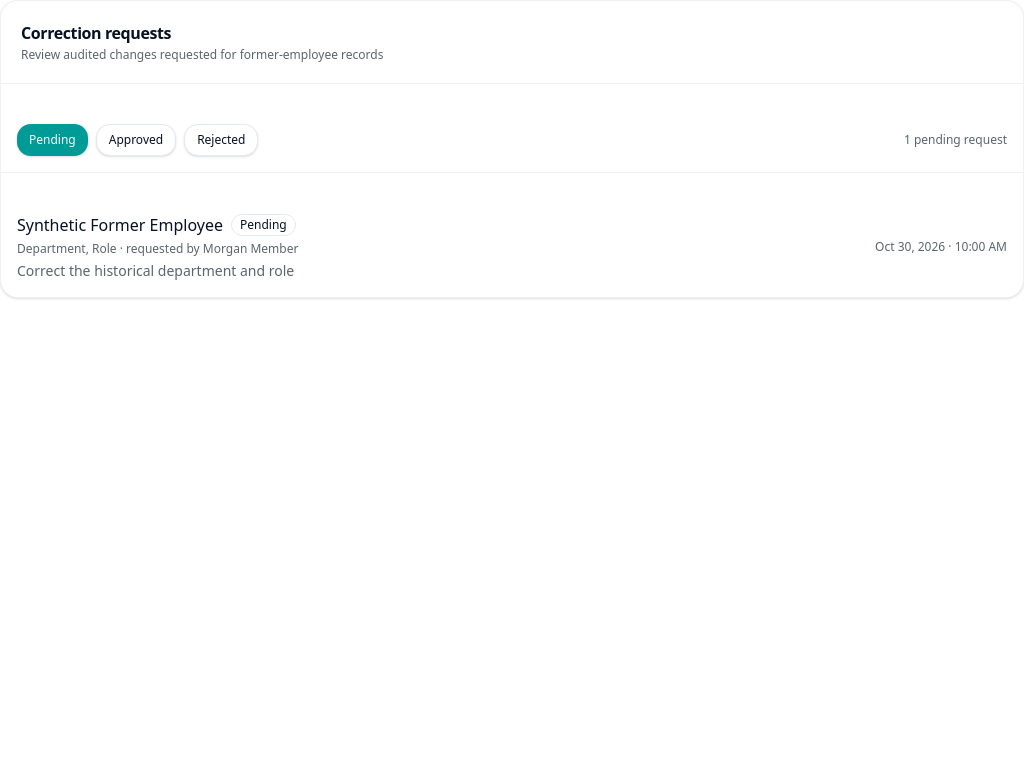
Scenario: FormerEmployeeCorrectionsCard › renders the pending queue and safe correction detail without raw IDs
Expected: the text "Department, Role · requested by Morgan Member" is shown, [17,240,298,257]
Click the text "Synthetic Former Employee".
click(120, 225)  # box [17,213,223,237]
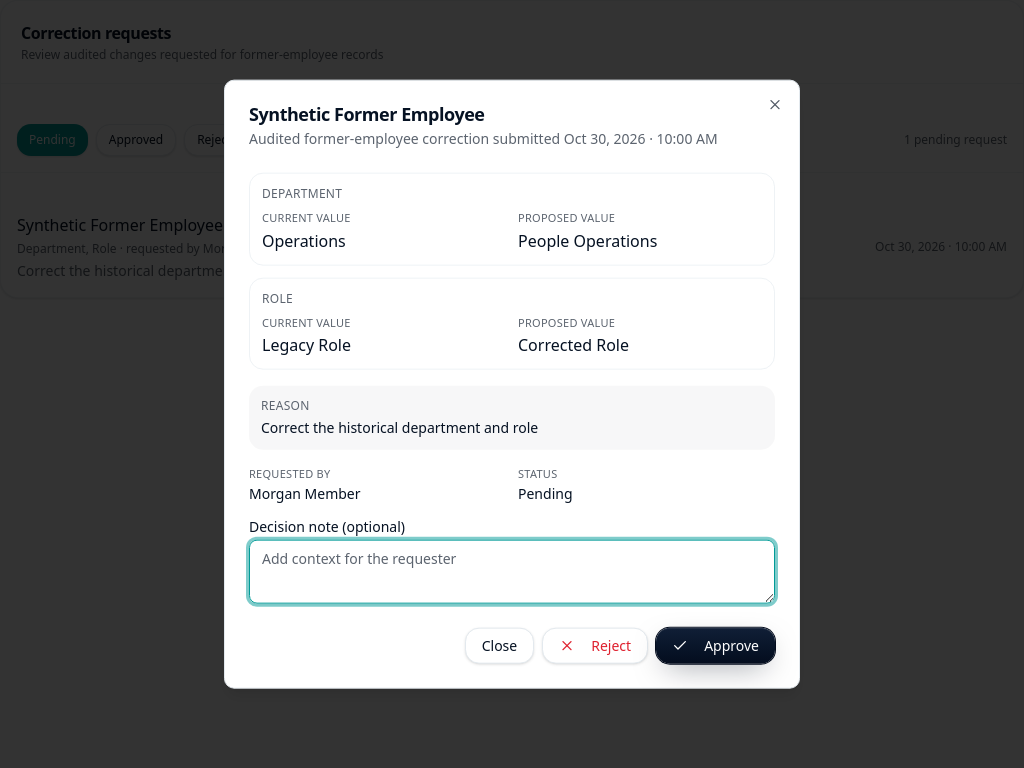
Now the text "Operations" is shown, box [262,229,346,251]
Now the text "People Operations" is shown, box [518,229,657,251]
Now the text "Legacy Role" is shown, box [262,334,351,356]
